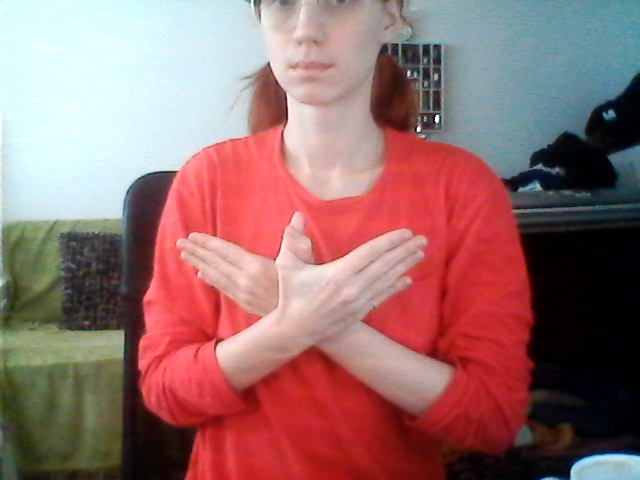lekar: (174, 216, 465, 396)
